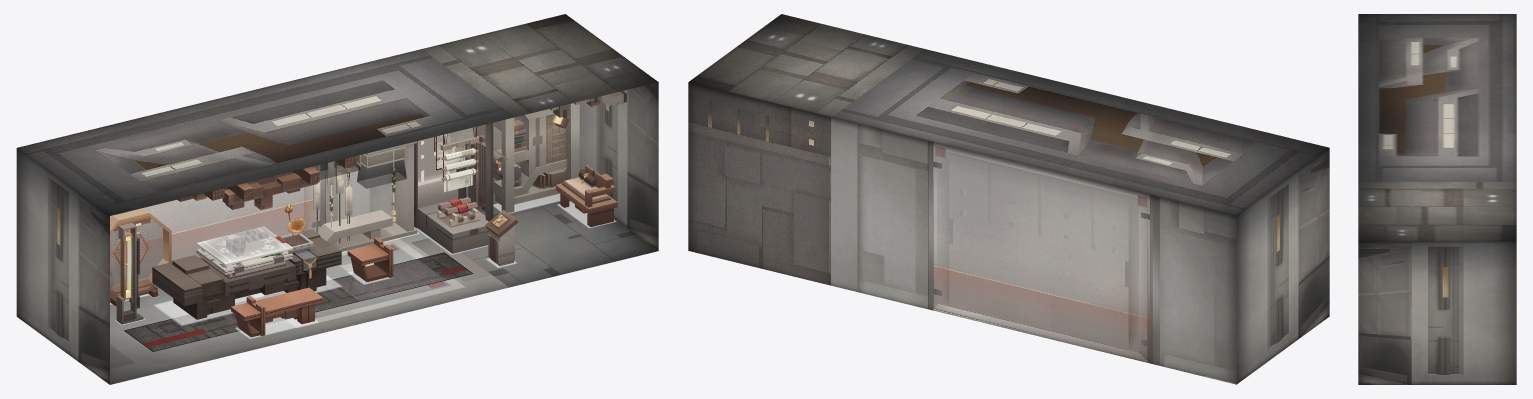
File: TianshiMansion.glb
The picture shows the model from 3 angles, left to right: view 1: azimuth 30°, elevation 25°; view 2: azimuth 150°, elevation 25°; view 3: azimuth 270°, elevation 25°; orthographic projection. The views are drawn at different scales.
Visible parts, largest first — view 1: ROOM_room, ROOM_floor, furni_TianshiMansion_table_01, furni_TianshiMansion_cabinet_01, furni_TianshiMansion_datashelf_01, furni_TianshiMansion_carpet_01, furni_TianshiMansion_stonecutoff_01, furni_TianshiMansion_database_01, furni_TianshiMansion_bench_01, furni_TianshiMansion_armchair_01, furni_TianshiMansion_floorlamp_01, furni_TianshiMansion_stonecutoff_light_01 (+10 smaller); view 2: ROOM_room, ROOM_LDoor; view 3: ROOM_room, ROOM_RDoor.
Boxes of the visible parts, bbox=[...] form: ROOM_room: bbox=[16, 14, 658, 384]; ROOM_floor: bbox=[110, 194, 657, 384]; furni_TianshiMansion_table_01: bbox=[152, 214, 341, 319]; furni_TianshiMansion_cabinet_01: bbox=[414, 122, 493, 253]; furni_TianshiMansion_datashelf_01: bbox=[493, 103, 579, 212]; furni_TianshiMansion_carpet_01: bbox=[124, 252, 472, 351]; furni_TianshiMansion_stonecutoff_01: bbox=[313, 141, 417, 251]; furni_TianshiMansion_database_01: bbox=[177, 156, 356, 209]; furni_TianshiMansion_bench_01: bbox=[231, 287, 322, 337]; furni_TianshiMansion_armchair_01: bbox=[556, 164, 617, 226]; furni_TianshiMansion_floorlamp_01: bbox=[116, 222, 143, 324]; furni_TianshiMansion_stonecutoff_light_01: bbox=[313, 146, 406, 188]; ROOM_room: bbox=[688, 14, 1329, 384]; ROOM_LDoor: bbox=[1297, 250, 1315, 339]; ROOM_room: bbox=[1358, 14, 1516, 384]; ROOM_RDoor: bbox=[1381, 319, 1413, 384].
Bounding box in the file's own units: 7.5 × 2.2 × 2.23.
Materials: 7 (7 with a texture image).
